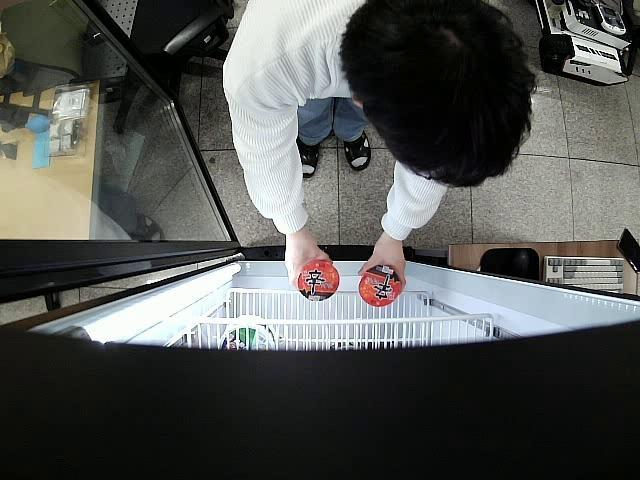02_shinRamen_S: (296, 258, 340, 302), (359, 264, 403, 306)
